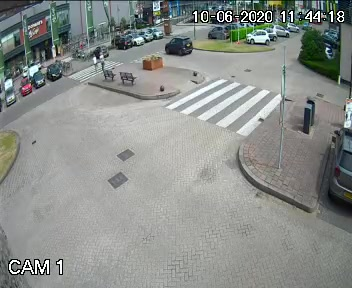car: (159, 33, 192, 57)
